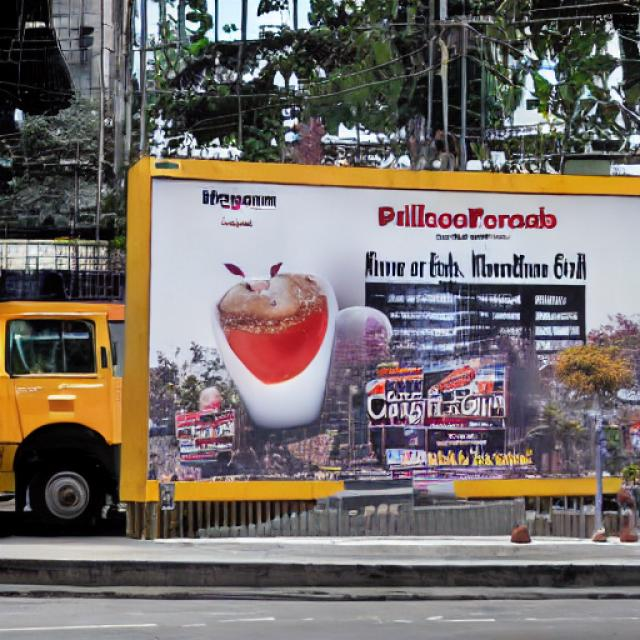Billboard: (121, 151, 640, 514)
